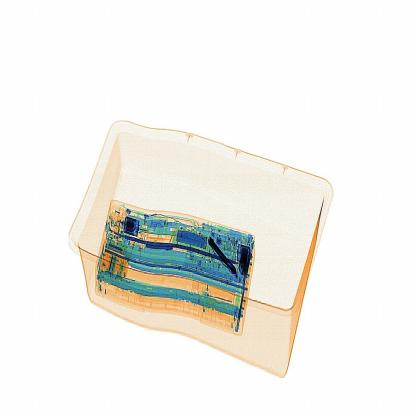knife: (204, 224, 246, 286)
